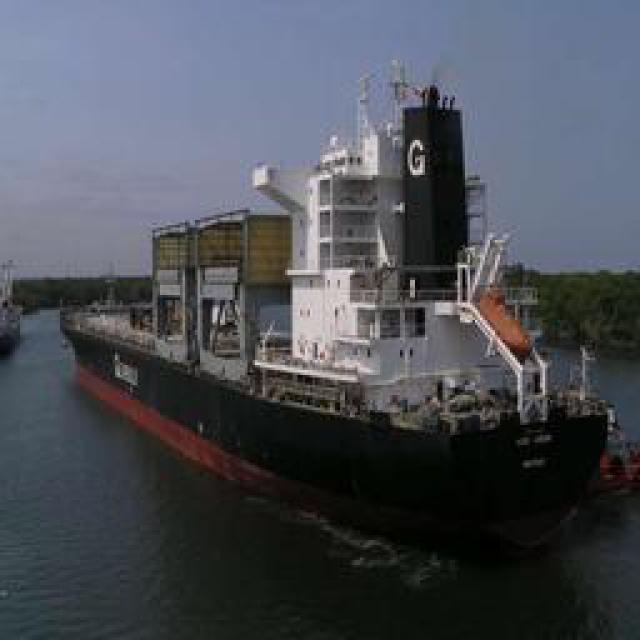Ship: (72, 52, 612, 562)
